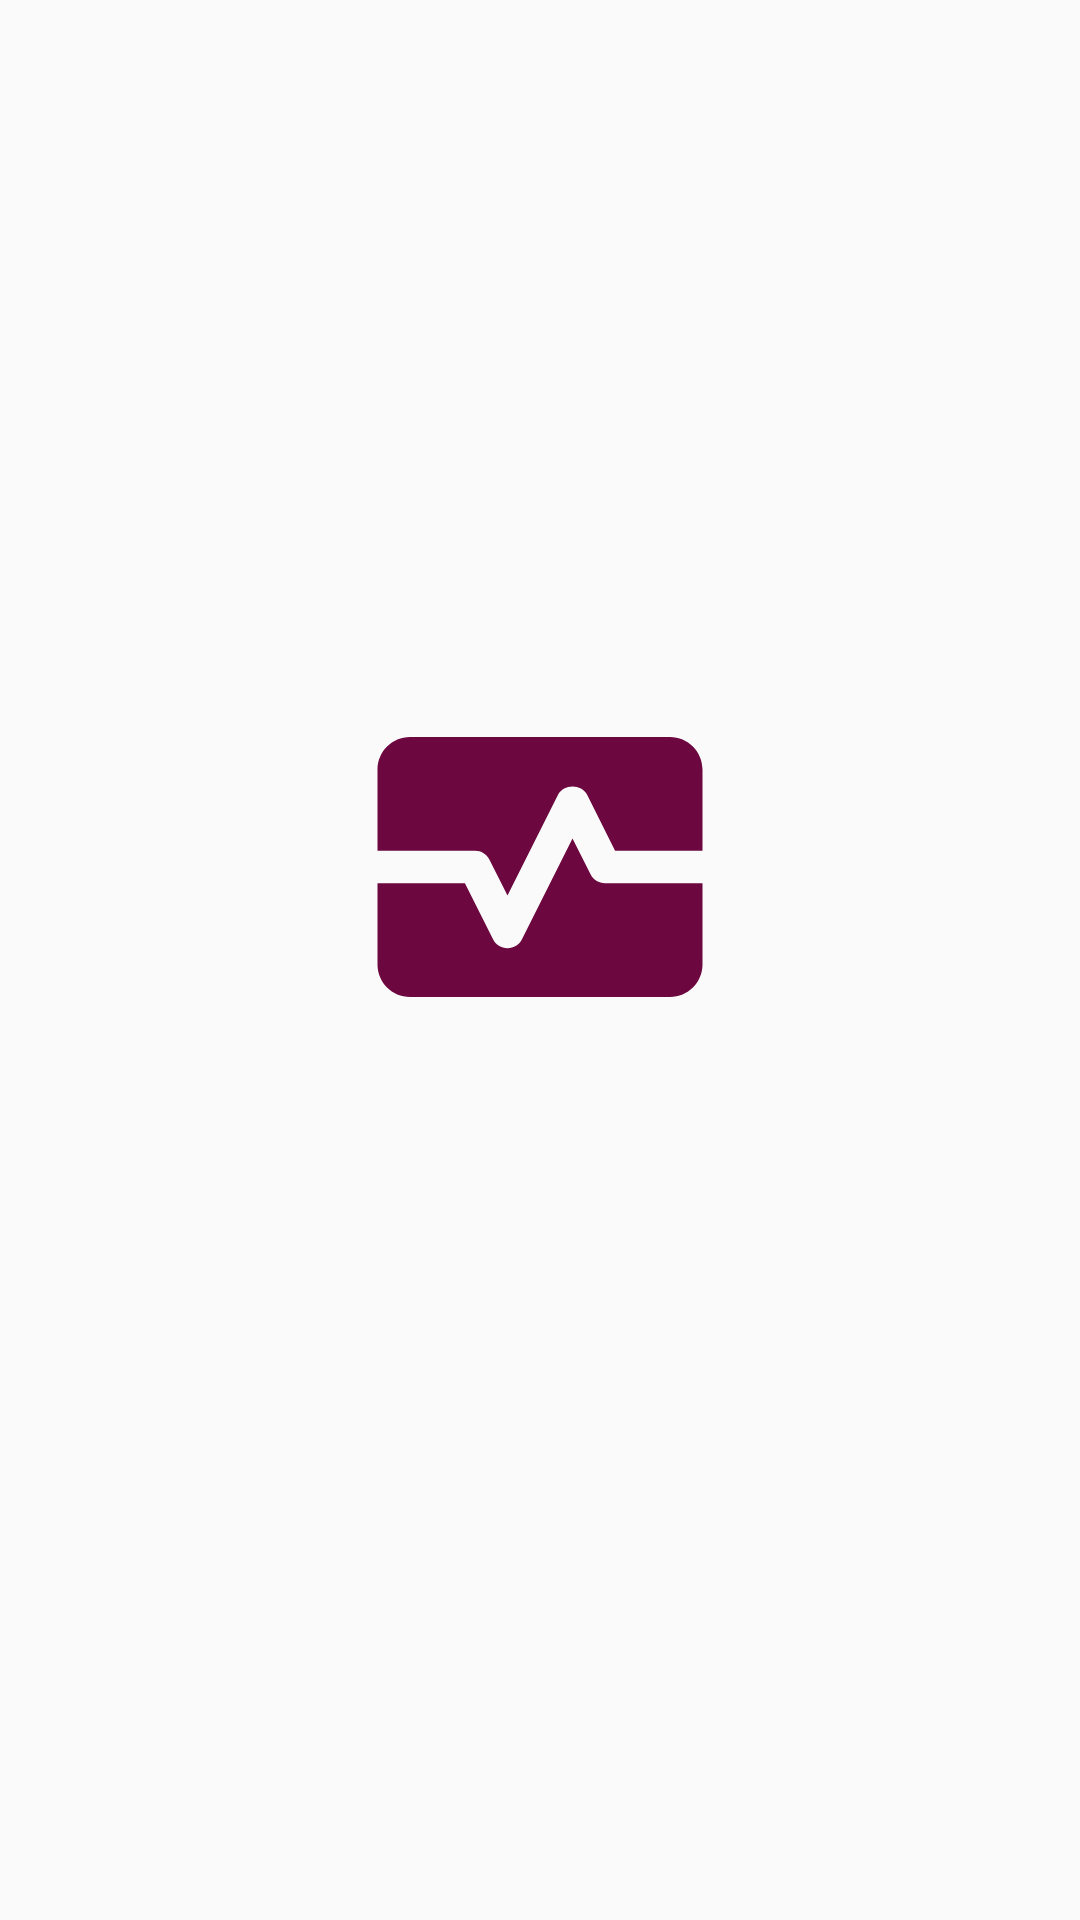

Screen size 1080*1920. Icon name, then its center in pixels as point (x, y):
monitor heart: point (540, 867)
